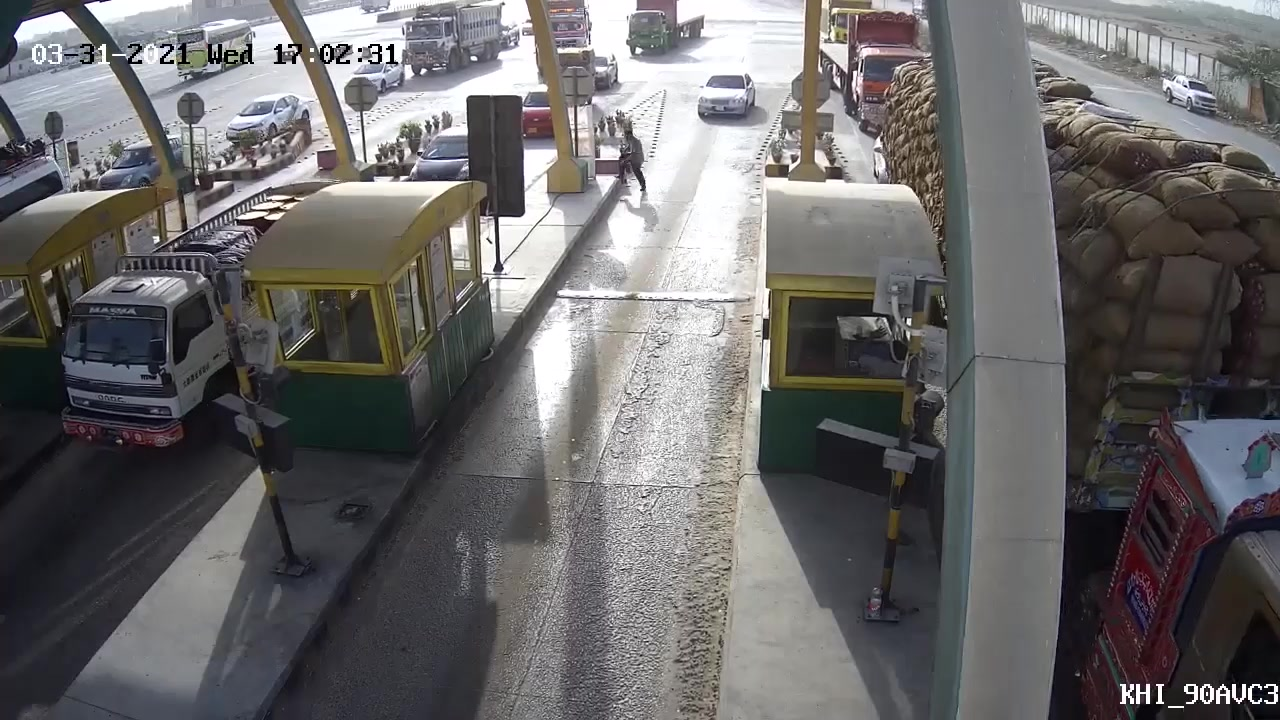F1: (683, 69, 757, 131)
